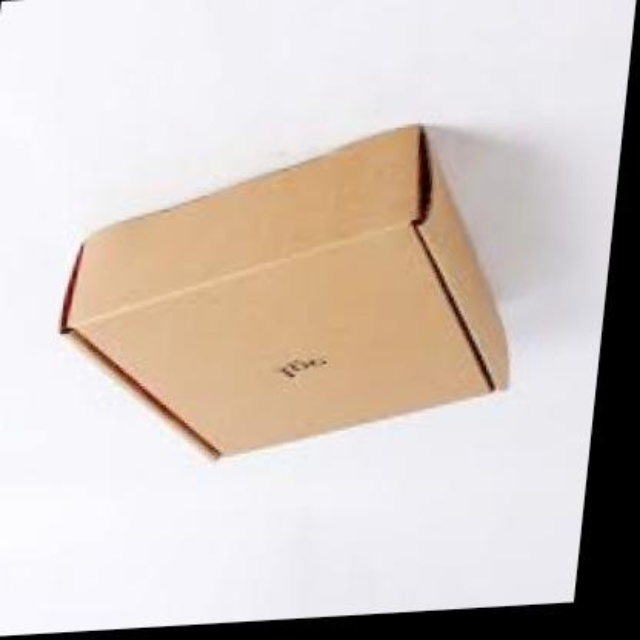trash: (62, 125, 506, 452)
